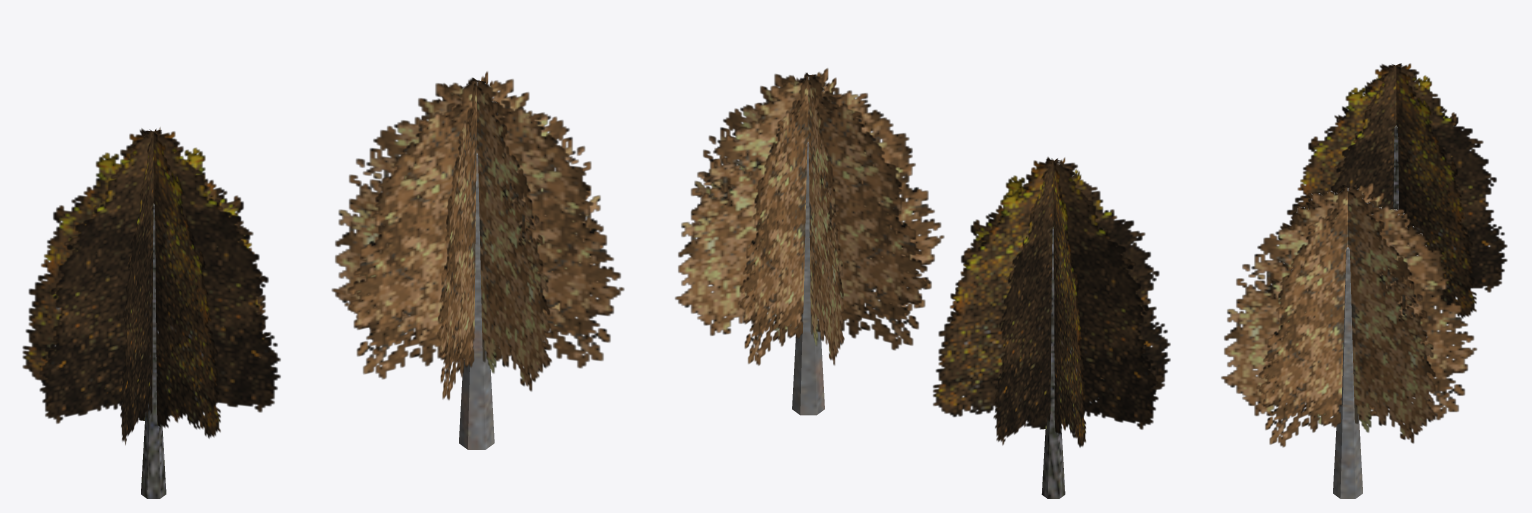
The model's file is trees_29_33_III.glb.
3 views of the same model, side by side, from view 1: azimuth 30°, elevation 25°; view 2: azimuth 150°, elevation 25°; view 3: azimuth 270°, elevation 25° (orthographic). The views are drawn at different scales.
Visible parts, largest first — view 1: tree29, tree33; view 2: tree29, tree33; view 3: tree29, tree33.
Boxes of the visible parts, left/top/right/bottom form: tree29: left=331, top=71, right=624, bottom=449; tree33: left=22, top=127, right=280, bottom=498; tree29: left=675, top=68, right=944, bottom=415; tree33: left=933, top=157, right=1170, bottom=498; tree29: left=1221, top=182, right=1476, bottom=498; tree33: left=1287, top=63, right=1507, bottom=318.
Bounding box in the file's own units: 2.53 × 1.56 × 1.42.
2 materials, 2 textured.
